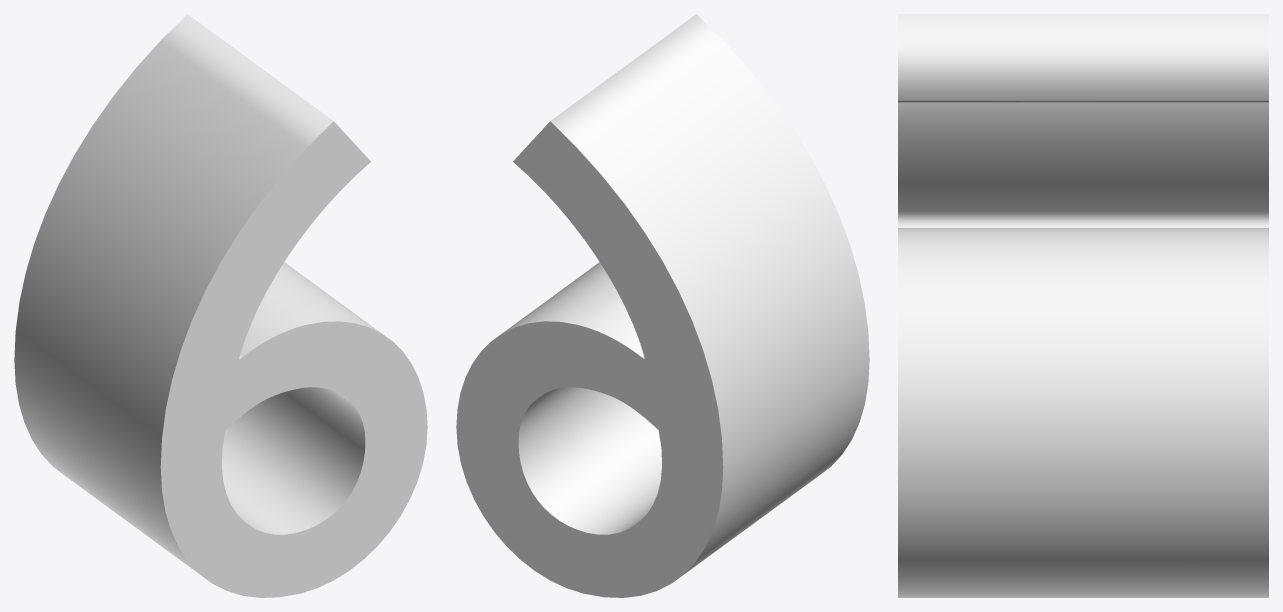
3 renders of one model, left to right at view 1: azimuth 30°, elevation 25°; view 2: azimuth 150°, elevation 25°; view 3: azimuth 270°, elevation 25°, orthographic. The views are drawn at different scales.
Parts seen in each view (by area): view 1: テキスト; view 2: テキスト; view 3: テキスト.
Boxes of the visible parts, x1,y1,x2,y2 form: テキスト: [14, 14, 427, 597]; テキスト: [456, 14, 869, 597]; テキスト: [898, 14, 1268, 597].
Size of the model in its own units: 0.1071 by 0.1781 by 0.1017.
1 material, 1 textured.
